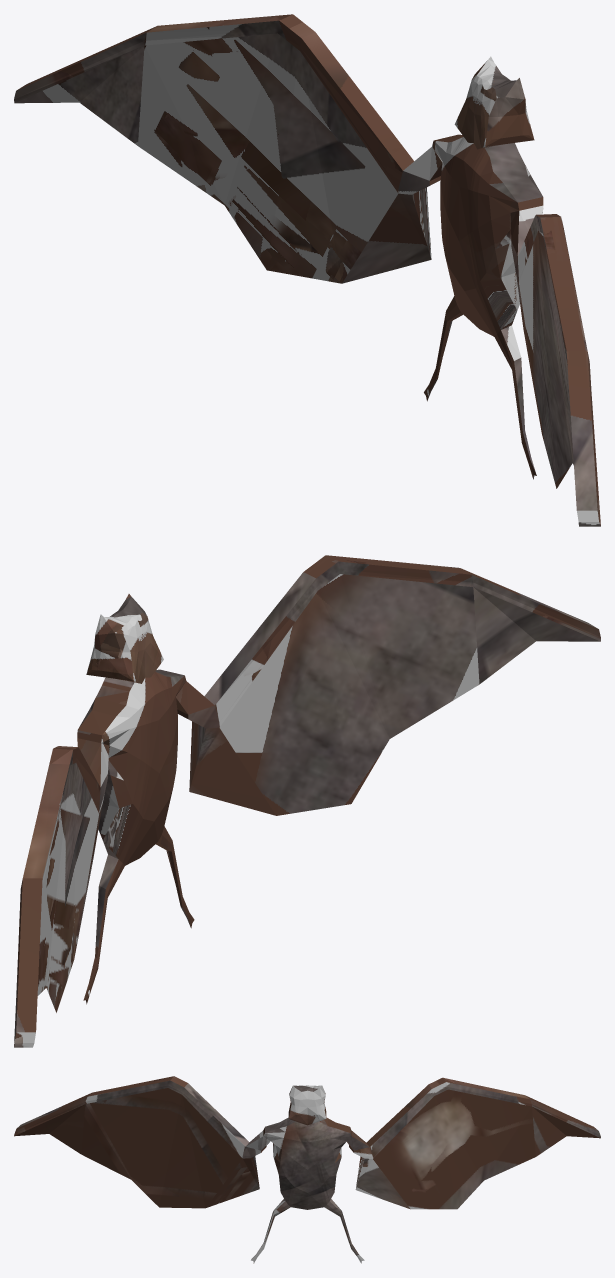
Rendered from Enemigo113.obj.
3 renders of one model, top to bottom at view 1: azimuth 30°, elevation 25°; view 2: azimuth 150°, elevation 25°; view 3: azimuth 270°, elevation 25°, orthographic. The views are drawn at different scales.
Visible parts, largest first — view 1: Plano; view 2: Plano; view 3: Plano.
Boxes of the visible parts, box(x1,y1,x2,y2) form: Plano: box(14, 14, 600, 526); Plano: box(14, 555, 600, 1047); Plano: box(14, 1076, 600, 1263).
Size of the model in its own units: 0.4899 by 0.7578 by 2.18.
Materials: 1 (1 with a texture image).
